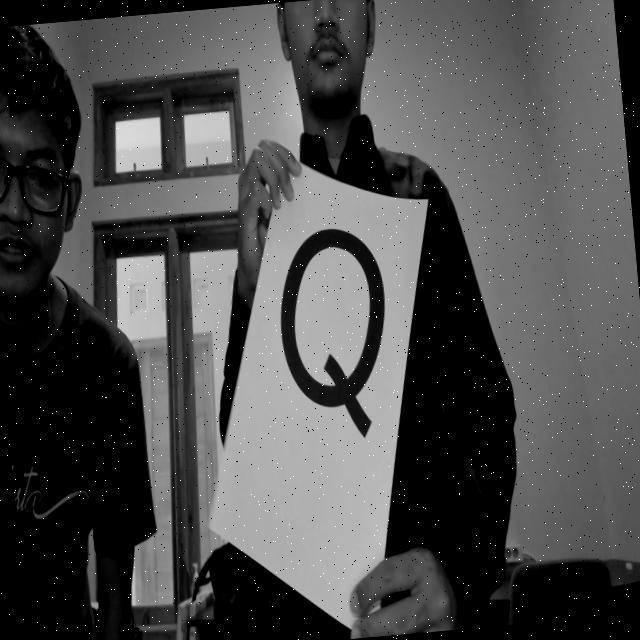q: (264, 214, 409, 471)
